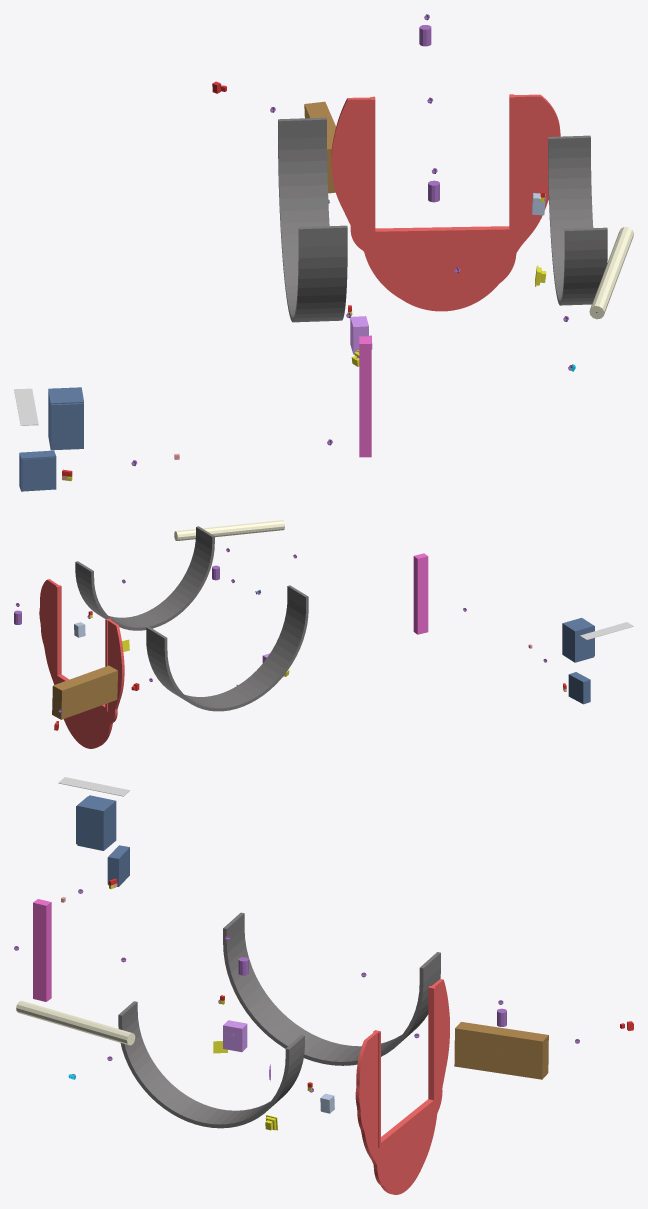
The model's file is tile_149.glb.
The picture shows the model from 3 angles, top to bottom: view 1: azimuth 30°, elevation 25°; view 2: azimuth 150°, elevation 25°; view 3: azimuth 270°, elevation 25°; orthographic projection. The views are drawn at different scales.
Bounding box in the file's own units: 13.52 × 4.44 × 11.97.
